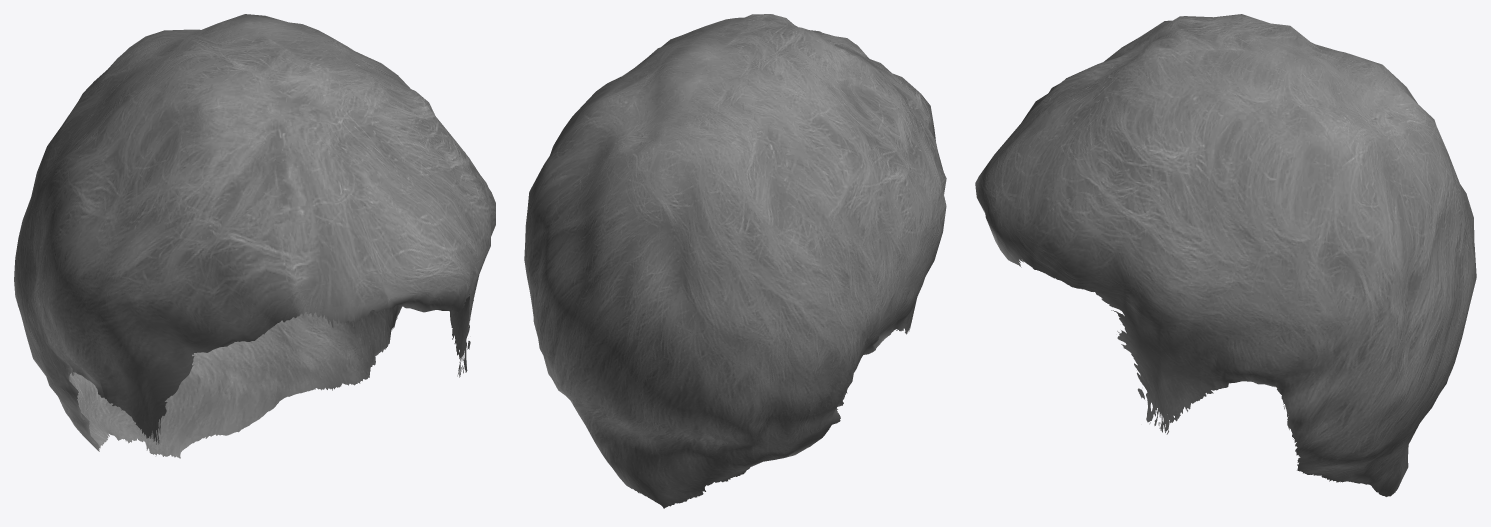
The model's file is short02.glb.
3 views of the same model, side by side, from view 1: azimuth 30°, elevation 25°; view 2: azimuth 150°, elevation 25°; view 3: azimuth 270°, elevation 25° (orthographic). The views are drawn at different scales.
Visible parts, largest first — view 1: editor_short02; view 2: editor_short02; view 3: editor_short02.
Boxes of the visible parts, x1=… form: editor_short02: x1=14, y1=14, x2=495, y2=458; editor_short02: x1=524, y1=14, x2=946, y2=508; editor_short02: x1=975, y1=14, x2=1476, y2=496.
Size of the model in its own units: 0.17 by 0.1981 by 0.1962.
Materials: 1 (1 with a texture image).
